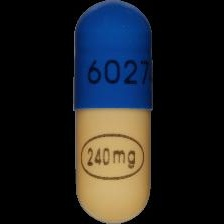0591-2884: (0, 0, 224, 224)
